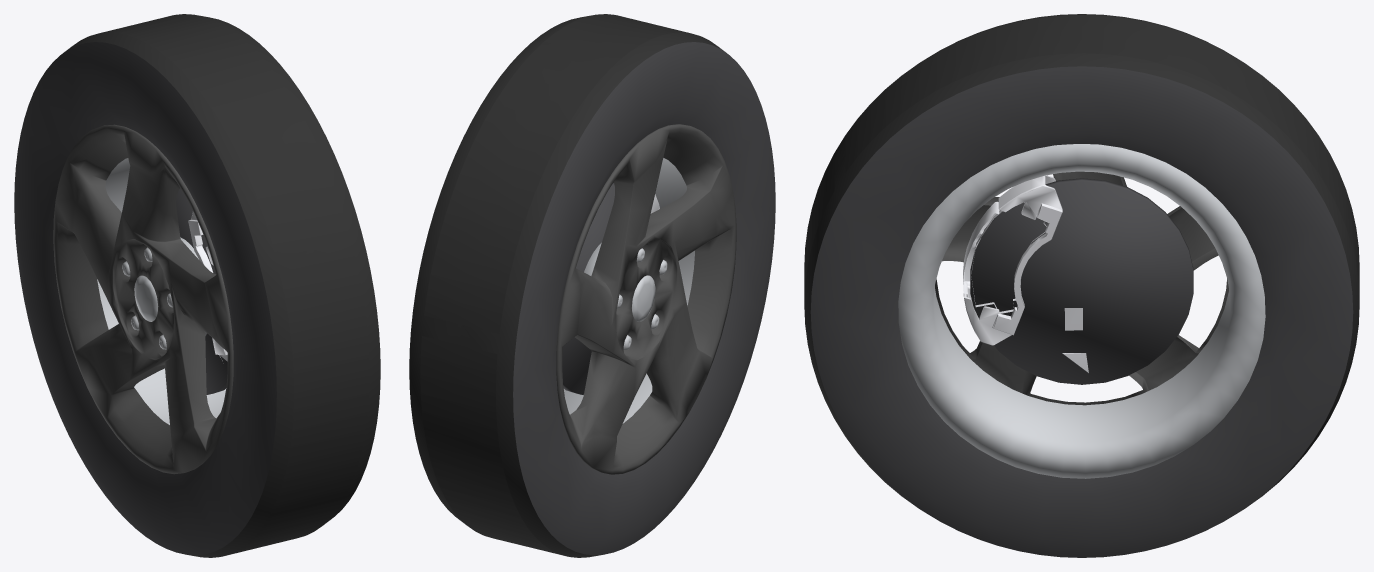
File: patrulla_wheelRF.glb
3 views of the same model, side by side, from view 1: azimuth 30°, elevation 25°; view 2: azimuth 150°, elevation 25°; view 3: azimuth 270°, elevation 25° (orthographic). The views are drawn at different scales.
Visible parts, largest first — view 1: patrulla_wheelRF; view 2: patrulla_wheelRF; view 3: patrulla_wheelRF.
Part boxes in pixels (x1,y1,x2,y2): patrulla_wheelRF: (14, 14, 380, 557); patrulla_wheelRF: (409, 14, 775, 557); patrulla_wheelRF: (804, 14, 1359, 557).
Bounding box in the file's own units: 0.2055 × 0.7438 × 0.7438.
Materials: 5 (1 with a texture image).
